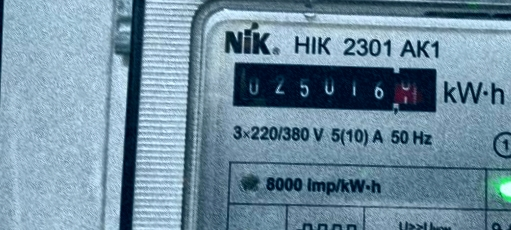0: (324, 74, 339, 98), (248, 75, 262, 98), (400, 72, 413, 93)
1: (349, 74, 361, 100), (402, 95, 410, 107)
2: (274, 73, 288, 97)
5: (299, 77, 311, 99)
6: (373, 78, 387, 104)
screen: (225, 52, 449, 122)
